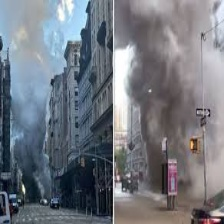smoke: (135, 1, 210, 154), (8, 1, 49, 181)
